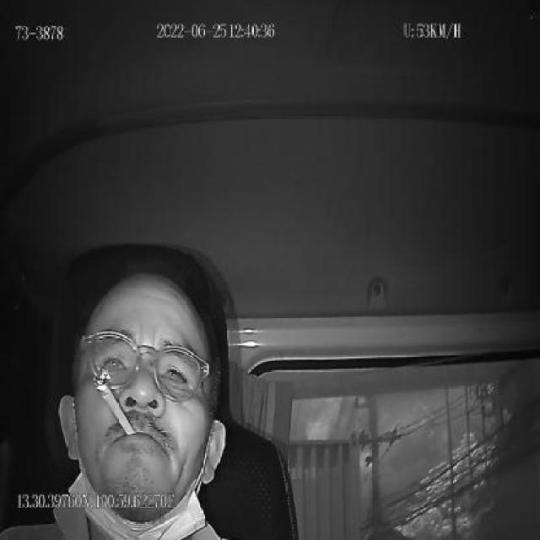smoking: (95, 374, 135, 438)
